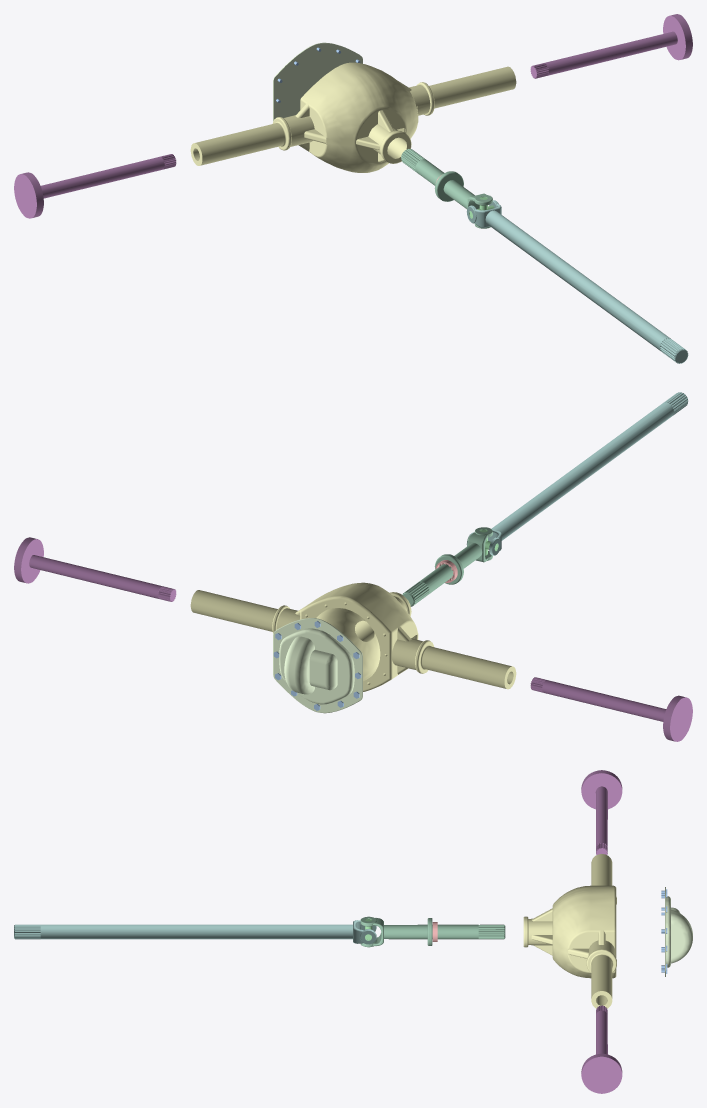
The model's file is Drivetrain expanded.gltf.
The picture shows the model from 3 angles, top to bottom: view 1: azimuth 30°, elevation 25°; view 2: azimuth 150°, elevation 25°; view 3: azimuth 270°, elevation 25°; orthographic projection. The views are drawn at different scales.
Visible parts, largest first — view 1: Housing, Axels (×2), Shaft B, Cover, Shaft A; view 2: Housing, Cover, Axels (×2), Shaft B, Shaft A; view 3: Housing, Shaft B, Axels (×2), Shaft A, Cover.
Part boxes in pixels (<box>): Housing: <box>190,62,516,172</box>; Axels (×2): <box>14,14,692,218</box>; Shaft B: <box>466,200,688,363</box>; Cover: <box>273,42,362,121</box>; Shaft A: <box>401,149,492,228</box>; Housing: <box>190,582,516,691</box>; Cover: <box>273,618,362,713</box>; Axels (×2): <box>14,537,692,741</box>; Shaft B: <box>466,392,688,555</box>; Shaft A: <box>402,527,492,606</box>; Housing: <box>523,854,616,1008</box>; Shaft B: <box>14,920,376,944</box>; Axels (×2): <box>581,770,622,1093</box>; Shaft A: <box>360,916,505,947</box>; Cover: <box>665,887,692,976</box>.
Size of the model in its own units: 280 by 39 by 280.
